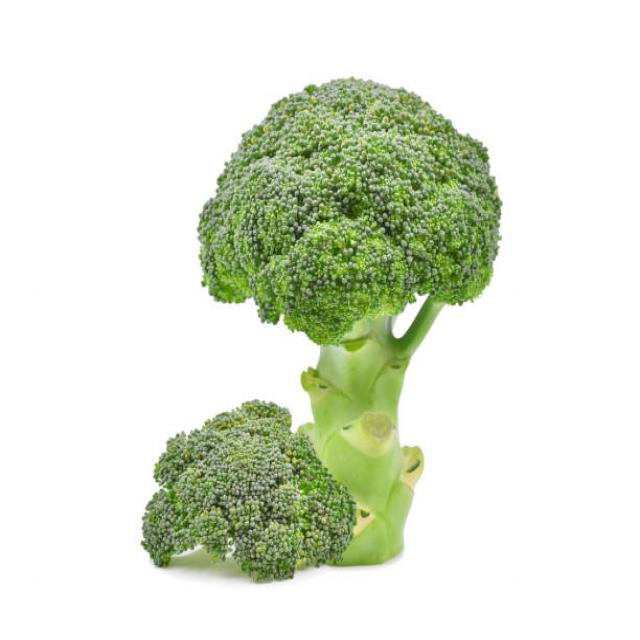broccoli: (190, 75, 560, 344), (115, 403, 361, 566)
